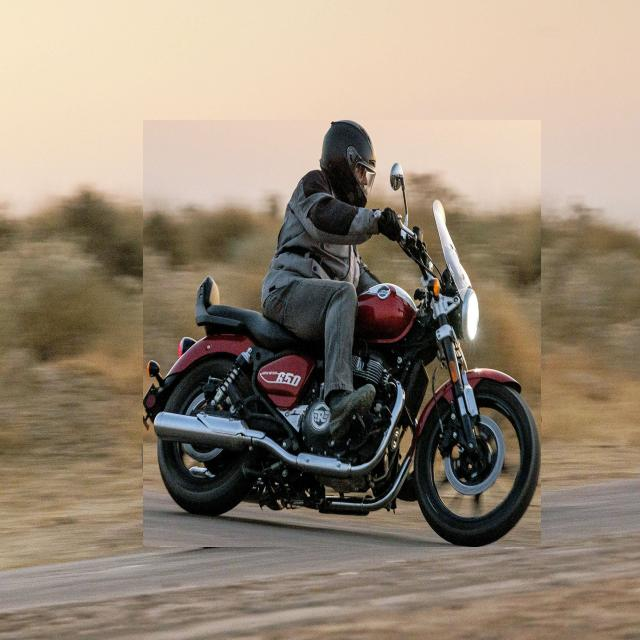motorcycle: (143, 121, 540, 547)
